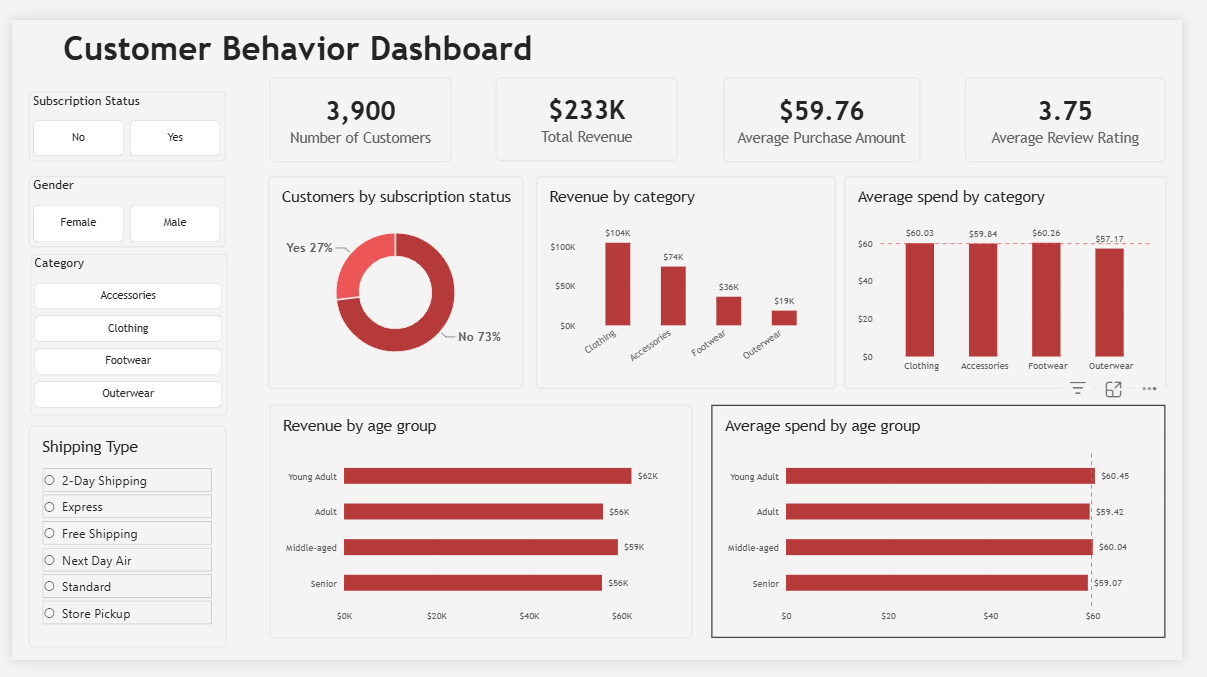

Layout of this report page (visuals, bound fields, positions):
{"tool":"powerbi","page":{"name":"Overview","canvas":[1500,820],"ordinal":0},"visuals":[{"type":"advancedSlicerVisual","fields":{"Values":["public customer.subscription_status"]},"box":[22,91.5,252.5,89.8],"z":0},{"type":"advancedSlicerVisual","fields":{"Values":["public customer.gender"]},"box":[22,200,252.5,91.5],"z":1000},{"type":"advancedSlicerVisual","fields":{"Values":["public customer.category"]},"box":[23.7,300.4,253,207.1],"z":2000},{"type":"listSlicer","fields":{"Values":["public customer.shipping_type"]},"box":[22.5,519.6,253.1,284.5],"z":3000},{"type":"card","fields":{"Values":["public customer.Number of Customers"]},"box":[329.5,73.4,234,109.1],"z":4000},{"type":"card","fields":{"Values":["public customer.Total Revenue"]},"box":[620.4,72.7,234,107.5],"z":5000},{"type":"card","fields":{"Values":["public customer.Average Purchase Amount"]},"box":[911.8,72.7,253,109.1],"z":6000},{"type":"card","fields":{"Values":["public customer.Average Review Rating"]},"box":[1222.3,72.7,257.7,109.1],"z":7000},{"type":"donutChart","title":"Customers by subscription status","fields":{"Category":["public customer.subscription_status"],"Y":["public customer.Number of Customers"]},"box":[328.8,200,327.1,272.9],"z":8000},{"type":"clusteredColumnChart","title":"Revenue by category","fields":{"Category":["public customer.category"],"Y":["public customer.Total Revenue"]},"box":[671.2,200,384.7,272.9],"z":9000},{"type":"clusteredColumnChart","title":"Average spend by category","fields":{"Category":["public customer.category"],"Y":["public customer.Average Purchase Amount"]},"box":[1066.1,200,413.6,272.9],"z":10000},{"type":"clusteredBarChart","title":"Revenue by age group","fields":{"Category":["public customer.age_group"],"Y":["public customer.Total Revenue"]},"box":[329.5,492.7,542.1,299.5],"z":11000},{"type":"clusteredBarChart","title":"Average spend by age group","fields":{"Category":["public customer.age_group"],"Y":["public customer.Average Purchase Amount"]},"box":[897,492.7,582.5,299.5],"z":12000},{"type":"textbox","box":[39,11.9,656.2,61.7],"z":13000}]}

Visuals, with their boxes in screenshot pixels (x1, y1, x2, y2), scaled from the page's 1500x820 canvas onto the 1207x677 screenshot:
advancedSlicerVisual - public customer.subscription_status: bbox=(18, 76, 221, 150)
advancedSlicerVisual - public customer.gender: bbox=(18, 165, 221, 241)
advancedSlicerVisual - public customer.category: bbox=(19, 248, 223, 419)
listSlicer - public customer.shipping_type: bbox=(18, 429, 222, 664)
card - public customer.Number of Customers: bbox=(265, 61, 453, 151)
card - public customer.Total Revenue: bbox=(499, 60, 688, 149)
card - public customer.Average Purchase Amount: bbox=(734, 60, 937, 150)
card - public customer.Average Review Rating: bbox=(984, 60, 1191, 150)
"Customers by subscription status" donutChart: bbox=(265, 165, 528, 390)
"Revenue by category" clusteredColumnChart: bbox=(540, 165, 850, 390)
"Average spend by category" clusteredColumnChart: bbox=(858, 165, 1191, 390)
"Revenue by age group" clusteredBarChart: bbox=(265, 407, 701, 654)
"Average spend by age group" clusteredBarChart: bbox=(722, 407, 1191, 654)
textbox: bbox=(31, 10, 559, 61)
